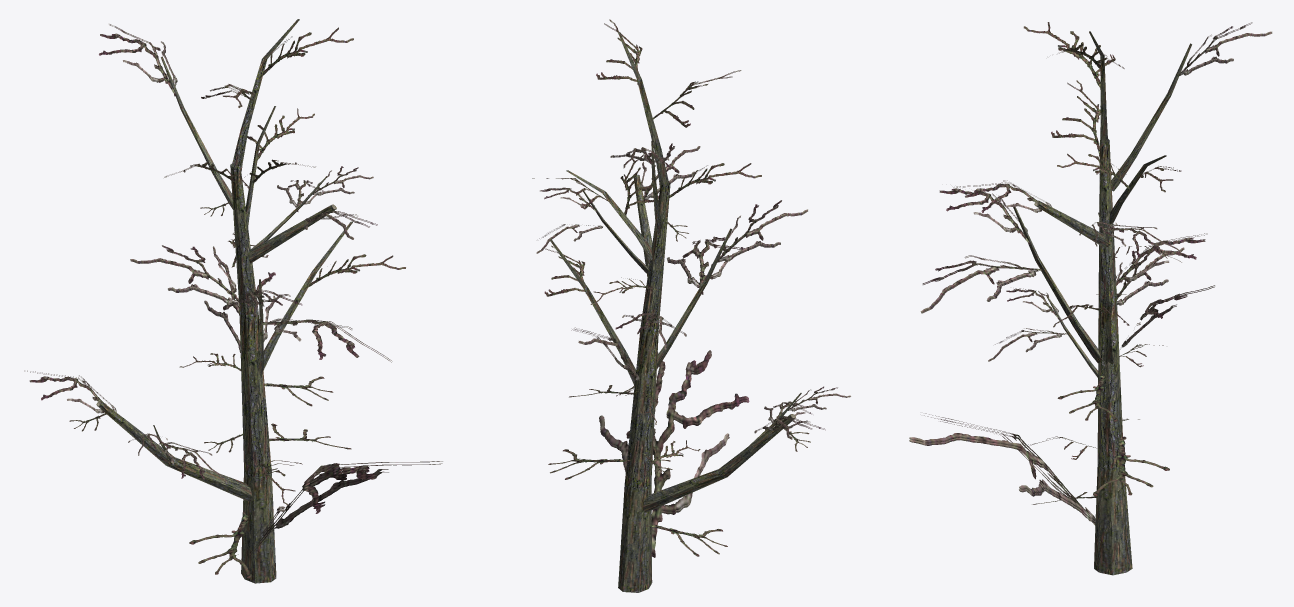
Rendered from dead_tree_v2.glb.
3 views of the same model, side by side, from view 1: azimuth 30°, elevation 25°; view 2: azimuth 150°, elevation 25°; view 3: azimuth 270°, elevation 25° (orthographic). The views are drawn at different scales.
Parts seen in each view (by area): view 1: dead_deciduous_3; view 2: dead_deciduous_3; view 3: dead_deciduous_3.
Boxes of the visible parts, box(x1,y1,x2,y2) form: dead_deciduous_3: box(24, 19, 442, 583); dead_deciduous_3: box(532, 19, 850, 592); dead_deciduous_3: box(909, 22, 1272, 575).
Size of the model in its own units: 11.64 by 16.64 by 10.89.
1 material, 1 textured.
